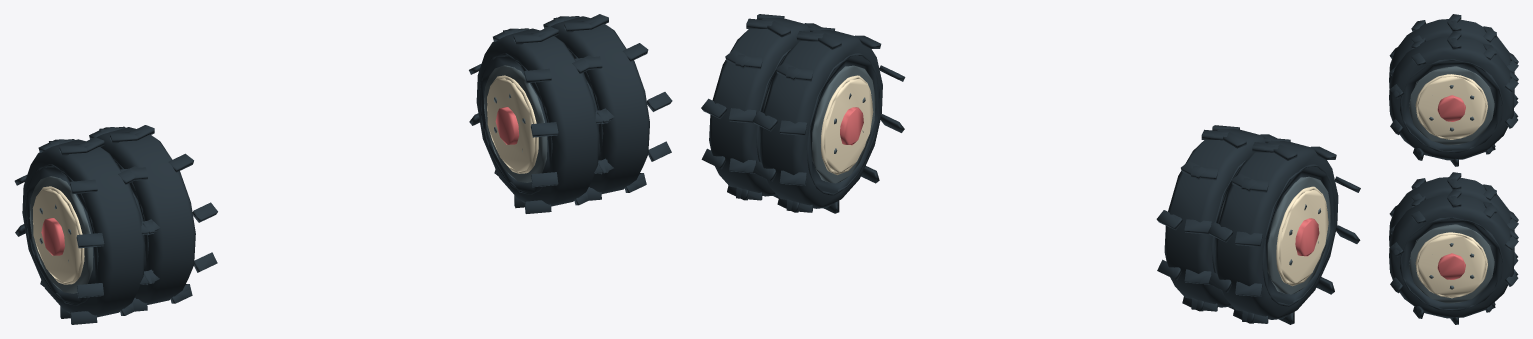
Rendered from broto_wheels_double_mobile.glb.
3 renders of one model, left to right at view 1: azimuth 30°, elevation 25°; view 2: azimuth 150°, elevation 25°; view 3: azimuth 270°, elevation 25°, orthographic. The views are drawn at different scales.
Visible parts, largest first — view 1: WheelR, WheelEndL, WheelL, WheelEndR; view 2: WheelEndL, WheelR, WheelL, WheelEndR; view 3: WheelEndR, WheelL, WheelR, WheelEndL.
Boxes of the visible parts, x1,y1,x2,y2 form: WheelR: [469, 26, 614, 213]; WheelEndL: [14, 137, 160, 324]; WheelL: [89, 125, 217, 311]; WheelEndR: [543, 14, 672, 200]; WheelEndL: [1208, 138, 1360, 324]; WheelR: [752, 27, 905, 213]; WheelL: [1156, 125, 1277, 311]; WheelEndR: [701, 14, 821, 200]; WheelEndR: [1389, 189, 1518, 324]; WheelL: [1389, 31, 1518, 166]; WheelR: [1389, 172, 1518, 265]; WheelEndL: [1389, 14, 1518, 107].
Bounding box in the file's own units: 4.35 × 1.19 × 1.16.
